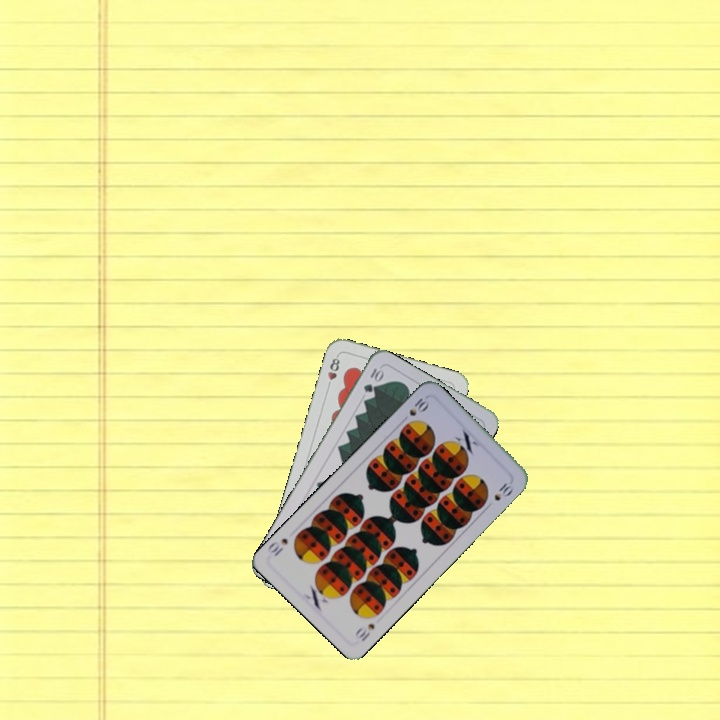G10: (359, 364, 386, 396)
H8: (323, 352, 342, 391)
S10: (397, 394, 432, 425), (351, 619, 377, 644)
